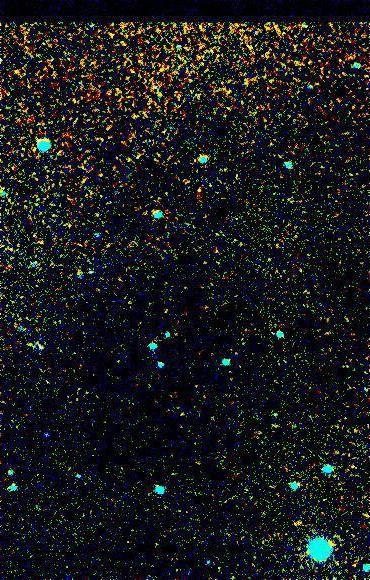star: (320, 447, 350, 477)
